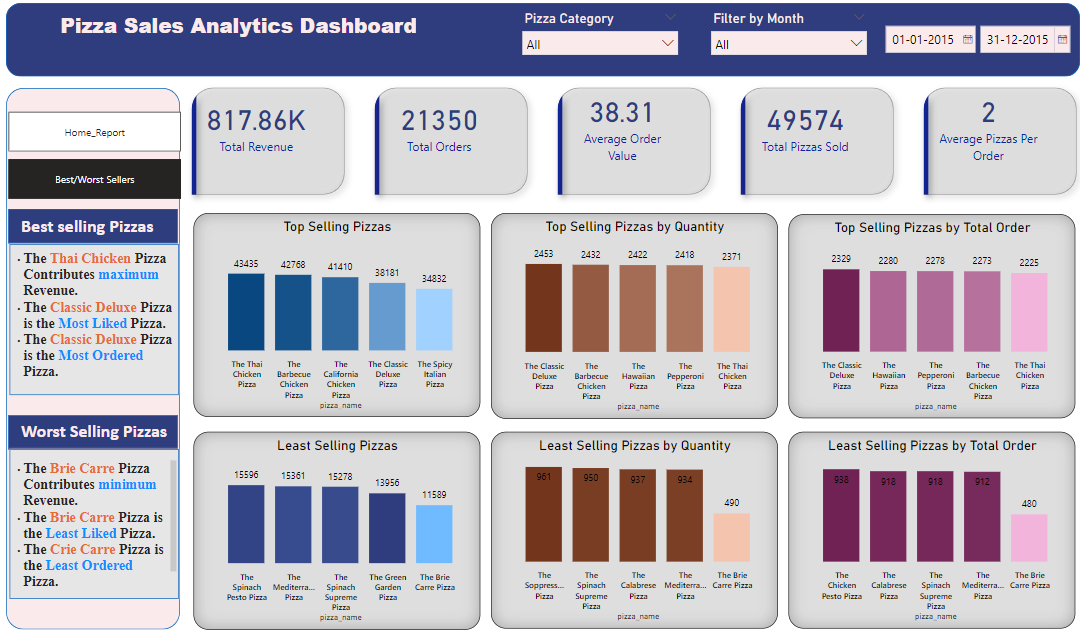

Layout of this report page (visuals, bound fields, positions):
{"tool":"powerbi","page":{"name":"Best/Worst Sellers","canvas":[1460,867],"ordinal":1},"visuals":[{"type":"cardVisual","fields":{"Data":["pizza_sales.Total Revenue","pizza_sales.Total Orders","pizza_sales.Average Order Value","pizza_sales.Total Pizzas Sold","pizza_sales.Average Pizzas Per Order"]},"box":[245.5,103.3,1213.8,175.3],"z":0},{"type":"shape","title":"Pizza Sales Analysis/Dashboard  (2015)","box":[14,6,1432,98],"z":1000},{"type":"textbox","box":[0,11.7,646.8,91.6],"z":2000},{"type":"columnChart","title":"Top Selling Pizzas","fields":{"Category":["pizza_sales.pizza_name"],"Y":["pizza_sales.Total Revenue"]},"box":[264,286,382,272],"z":3000},{"type":"shape","box":[14,120,232,722],"z":4000},{"type":"shape","box":[14,278,232,52],"z":5000},{"type":"shape","box":[14,552.7,232,52],"z":6000},{"type":"shape","box":[14.2,324.2,231.7,207.5],"z":7000},{"type":"shape","box":[14.2,598.3,231.7,205.8],"z":8000},{"type":"slicer","fields":{"Values":["pizza_sales.pizza_category"]},"box":[691.7,11.7,228,76],"z":9000},{"type":"slicer","fields":{"Values":["pizza_sales.order_date"]},"box":[1172.9,27.3,265,52.6],"z":10000},{"type":"slicer","fields":{"Values":["pizza_sales.Order Month"]},"box":[943,11.7,228,76],"z":11000},{"type":"textbox","box":[28,557,263,41],"z":12000},{"type":"textbox","box":[28,284,263,40],"z":13000},{"type":"textbox","box":[14,332,232,228],"z":14000},{"type":"textbox","box":[14,612,232,178],"z":15000},{"type":"columnChart","title":"Top Selling Pizzas by Quantity","fields":{"Category":["pizza_sales.pizza_name"],"Y":["Sum(pizza_sales.quantity)"]},"box":[660,286,382,274],"z":16000},{"type":"columnChart","title":"Top Selling Pizzas by Total Order","fields":{"Category":["pizza_sales.pizza_name"],"Y":["pizza_sales.Total Orders"]},"box":[1056,288,382,272],"z":17000},{"type":"columnChart","title":"Least Selling Pizzas by Total Order","fields":{"Category":["pizza_sales.pizza_name"],"Y":["pizza_sales.Total Orders"]},"box":[1056,578,382,262],"z":18000},{"type":"columnChart","title":"Least Selling Pizzas by Quantity","fields":{"Category":["pizza_sales.pizza_name"],"Y":["Sum(pizza_sales.quantity)"]},"box":[660,578,382,262],"z":19000},{"type":"columnChart","title":"Least Selling Pizzas","fields":{"Category":["pizza_sales.pizza_name"],"Y":["pizza_sales.Total Revenue"]},"box":[264,578,382,264],"z":20000},{"type":"shape","box":[210.8,222.5,26.7,36.7],"z":21000},{"type":"pageNavigator","box":[15.8,150.8,230,117.5],"z":22000}]}

Visuals, with their boxes in screenshot pixels (x1, y1, x2, y2), scaled from the page's 1460x867 canvas onto the 1083x636 screenshot:
cardVisual - pizza_sales.Total Revenue x pizza_sales.Total Orders: (182, 76, 1082, 204)
"Pizza Sales Analysis/Dashboard  (2015)" shape: (10, 4, 1073, 76)
textbox: (0, 9, 480, 76)
"Top Selling Pizzas" columnChart: (196, 210, 479, 409)
shape: (10, 88, 182, 618)
shape: (10, 204, 182, 242)
shape: (10, 405, 182, 444)
shape: (11, 238, 182, 390)
shape: (11, 439, 182, 590)
slicer - pizza_sales.pizza_category: (513, 9, 682, 64)
slicer - pizza_sales.order_date: (870, 20, 1067, 59)
slicer - pizza_sales.Order Month: (699, 9, 869, 64)
textbox: (21, 409, 216, 439)
textbox: (21, 208, 216, 238)
textbox: (10, 244, 182, 411)
textbox: (10, 449, 182, 580)
"Top Selling Pizzas by Quantity" columnChart: (490, 210, 773, 411)
"Top Selling Pizzas by Total Order" columnChart: (783, 211, 1067, 411)
"Least Selling Pizzas by Total Order" columnChart: (783, 424, 1067, 616)
"Least Selling Pizzas by Quantity" columnChart: (490, 424, 773, 616)
"Least Selling Pizzas" columnChart: (196, 424, 479, 618)
shape: (156, 163, 176, 190)
pageNavigator: (12, 111, 182, 197)
